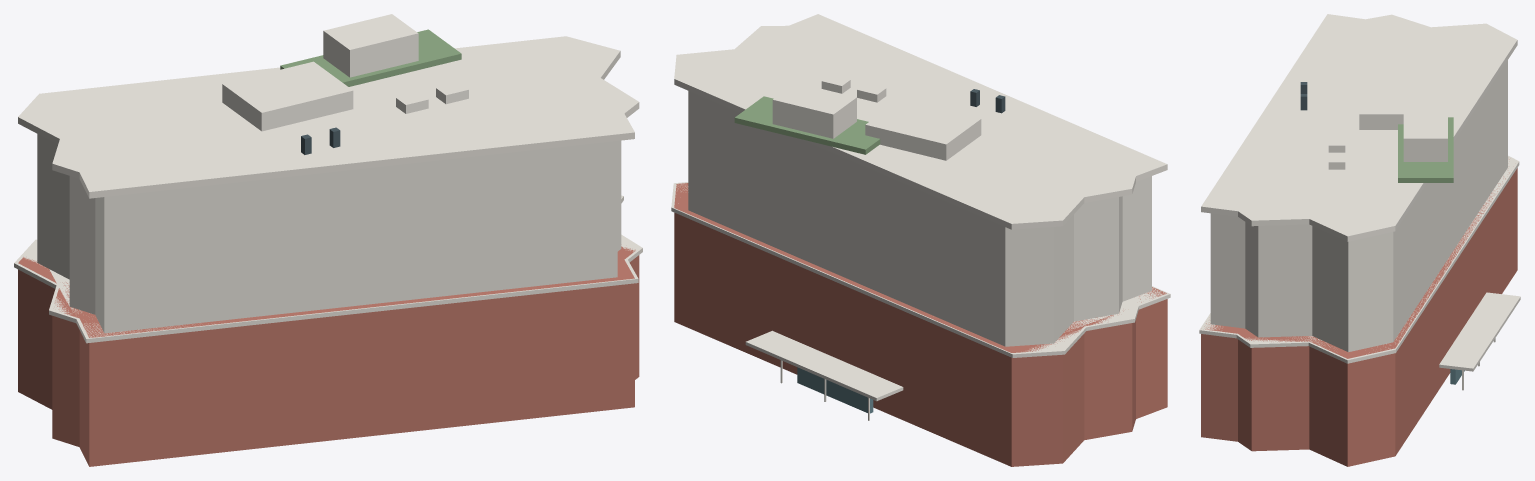
The model's file is cma_building.glb.
3 renders of one model, left to right at view 1: azimuth 30°, elevation 25°; view 2: azimuth 150°, elevation 25°; view 3: azimuth 270°, elevation 25°, orthographic. The views are drawn at different scales.
Visible parts, largest first — view 1: CMA Building_base, CMA Building_upper, CMA Building_parapet, CMA Building_roof_plant, CMA Building_band, CMA Building_pavilion, CMA Building_garden; view 2: CMA Building_upper, CMA Building_base, CMA Building_parapet, CMA Building_roof_plant, CMA Building_band, CMA Building_canopy, CMA Building_pavilion, CMA Building_garden, CMA Building_door; view 3: CMA Building_parapet, CMA Building_base, CMA Building_upper, CMA Building_roof_plant, CMA Building_band, CMA Building_canopy, CMA Building_pavilion, CMA Building_garden.
Part boxes in pixels (box(x1,y1,x2,y2)): CMA Building_base: box(18, 246, 639, 466); CMA Building_upper: box(37, 134, 621, 333); CMA Building_parapet: box(18, 36, 639, 198); CMA Building_roof_plant: box(222, 61, 353, 131); CMA Building_band: box(14, 195, 642, 343); CMA Building_pavilion: box(323, 14, 418, 77); CMA Building_garden: box(280, 29, 461, 86); CMA Building_upper: box(688, 91, 1151, 346); CMA Building_base: box(674, 183, 1167, 466); CMA Building_parapet: box(674, 14, 1167, 229); CMA Building_roof_plant: box(865, 99, 981, 160); CMA Building_band: box(671, 182, 1170, 357); CMA Building_canopy: box(745, 330, 903, 401); CMA Building_pavilion: box(772, 82, 856, 138); CMA Building_garden: box(734, 96, 880, 154); CMA Building_door: box(797, 367, 873, 413); CMA Building_parapet: box(1201, 14, 1517, 241); CMA Building_base: box(1201, 159, 1517, 466); CMA Building_upper: box(1210, 60, 1507, 352); CMA Building_roof_plant: box(1359, 77, 1425, 129); CMA Building_band: box(1199, 155, 1519, 363); CMA Building_canopy: box(1439, 292, 1520, 371); CMA Building_pavilion: box(1403, 110, 1447, 161); CMA Building_garden: box(1398, 117, 1453, 182).
Bounding box in the file's own units: 48.04 × 25.8 × 29.01.
